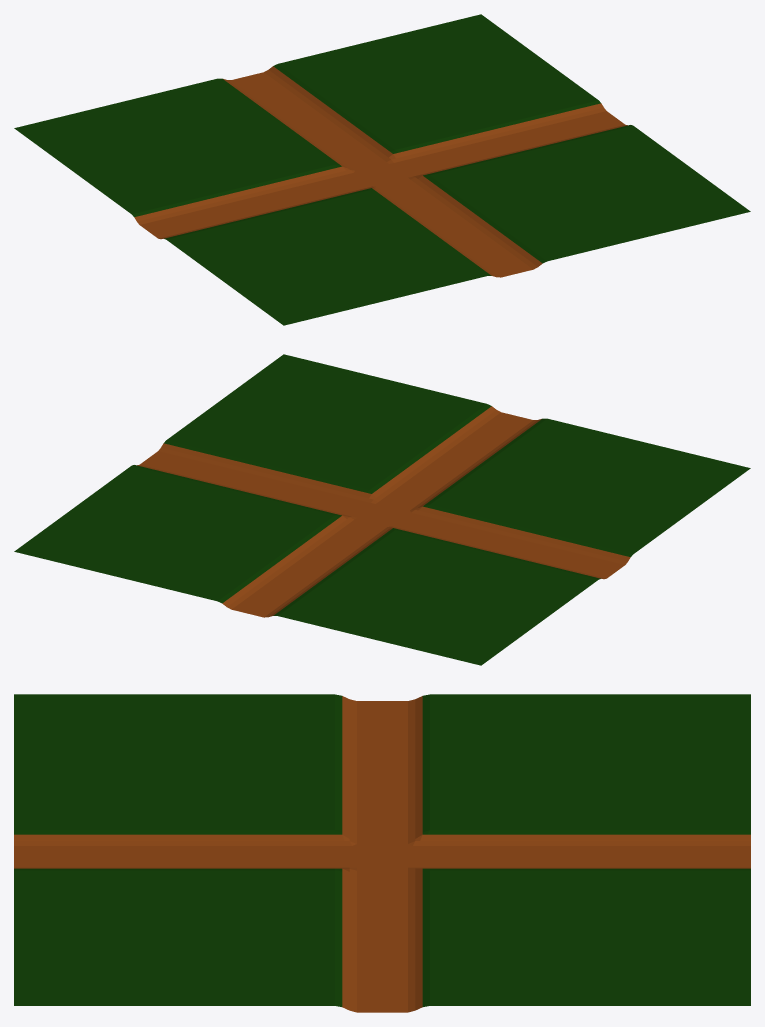
The model's file is Terrain_Part_Plane_8.fbx.
3 views of the same model, one above another, from view 1: azimuth 30°, elevation 25°; view 2: azimuth 150°, elevation 25°; view 3: azimuth 270°, elevation 25° (orthographic). The views are drawn at different scales.
Visible parts, largest first — view 1: Terrain_Part_Plane_8; view 2: Terrain_Part_Plane_8; view 3: Terrain_Part_Plane_8.
Boxes of the visible parts, x1=… form: Terrain_Part_Plane_8: x1=14, y1=14, x2=750, y2=325; Terrain_Part_Plane_8: x1=14, y1=354, x2=750, y2=665; Terrain_Part_Plane_8: x1=14, y1=694, x2=750, y2=1012.
Size of the model in its own units: 2000 by 20 by 2000.
